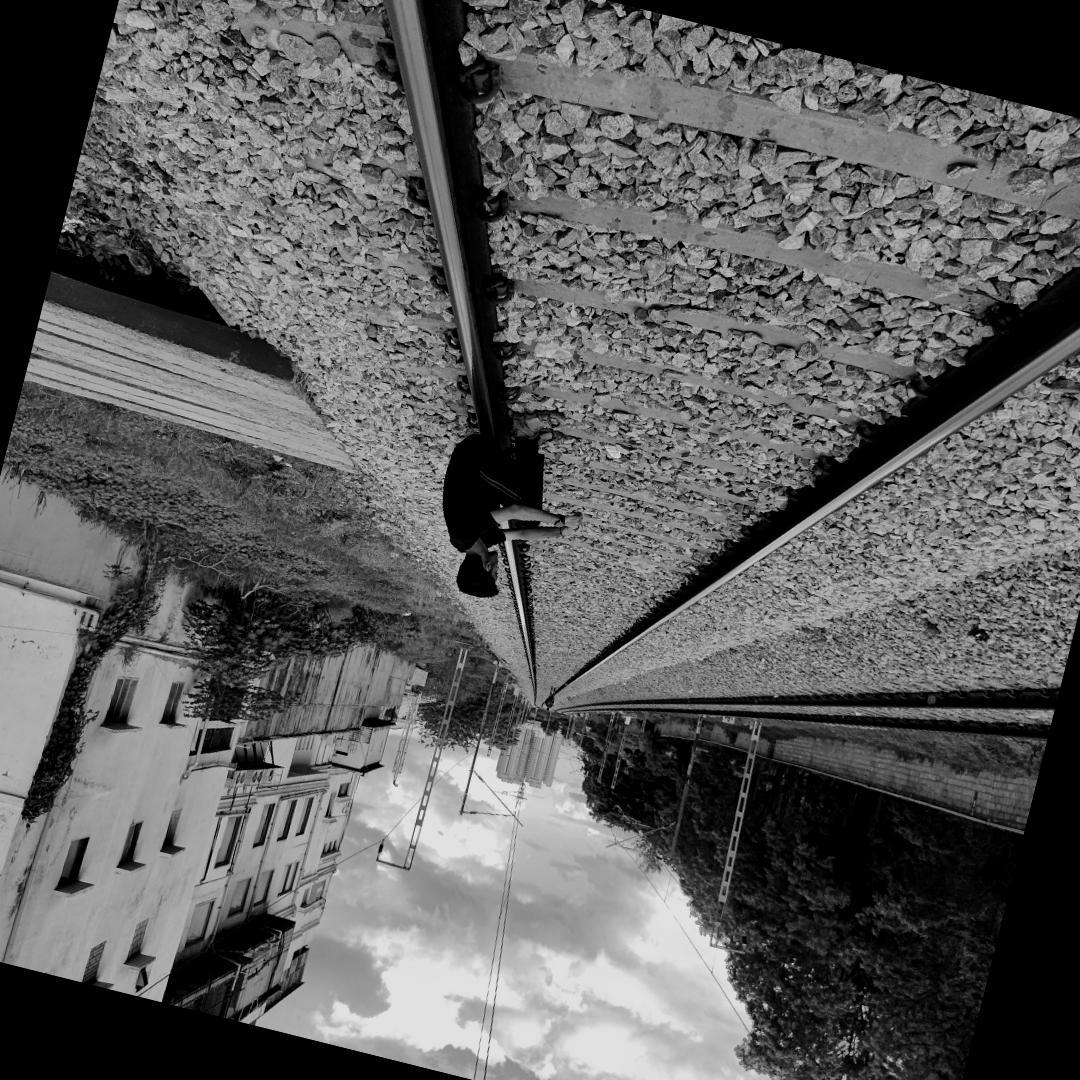sitting: (422, 405, 587, 607)
